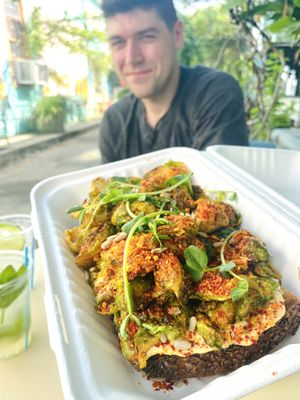curry: (0, 143, 300, 398)
sandwich: (59, 160, 293, 393)
